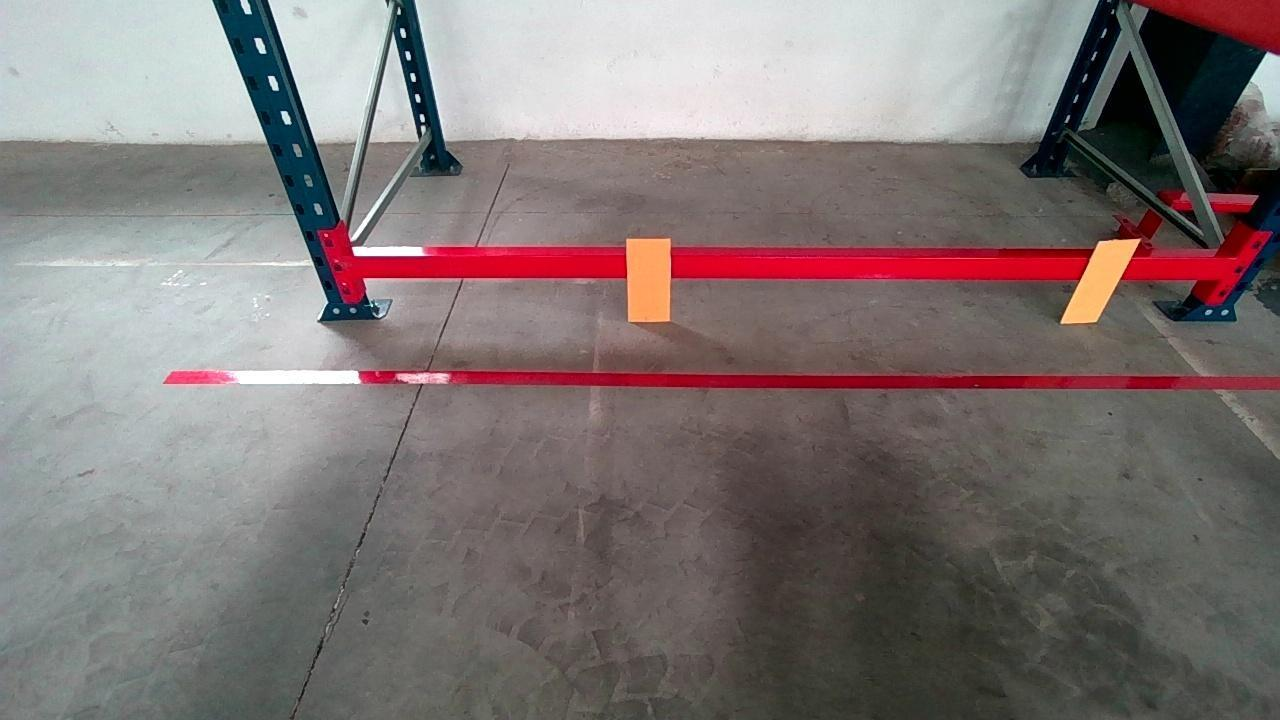h_rack: (346, 254, 1237, 280)
orange_strip: (1060, 239, 1141, 321), (627, 237, 672, 320)
red_line: (163, 368, 1280, 390)
